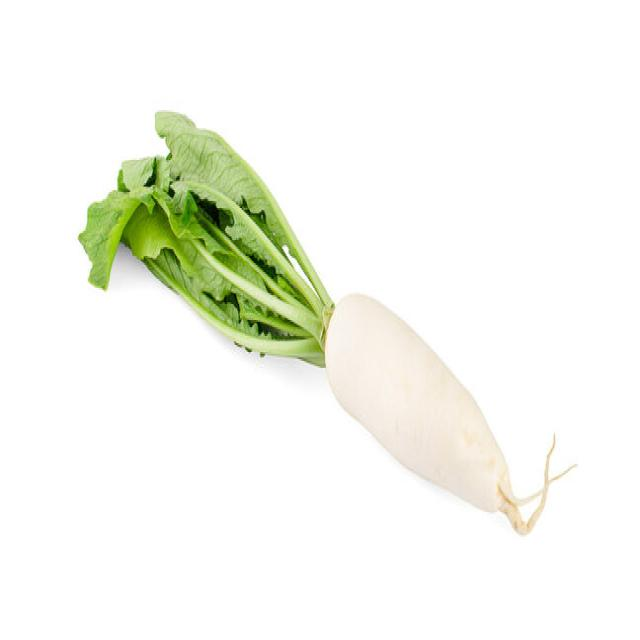Coriander Leaves: (77, 107, 335, 368)
Radish: (78, 107, 575, 535)
